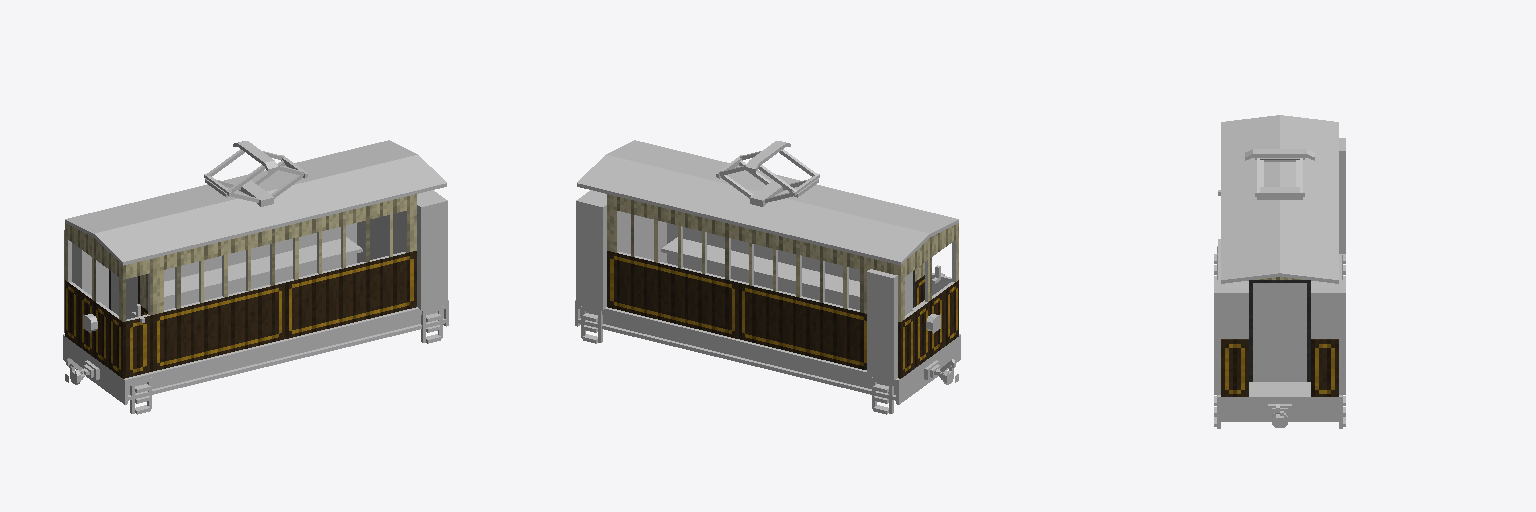
3 views of the same model, side by side, from view 1: azimuth 30°, elevation 25°; view 2: azimuth 150°, elevation 25°; view 3: azimuth 270°, elevation 25° (orthographic).
Visible parts, largest first — view 1: SHELL_WOOD_roof, SHELL_WOOD.002, SHELL_WOOD.001, SHELL_WOOD_cab, SHELL_WOOD_INTERIOR.001, DOOR_8, FRAME, FRAME.001, FRAME_cab, SHELL_WOOD_INTERIOR, SHELL_WOOD_cab_roof, SHELL_WOOD_cab_roof.001 (+3 smaller); view 2: SHELL_WOOD_roof, SHELL_WOOD.002, SHELL_WOOD.001, SHELL_WOOD_cab, SHELL_WOOD_INTERIOR.001, DOOR_6, DOOR_7, FRAME, FRAME.001, FRAME_cab, SHELL_WOOD_cab_roof, SHELL_WOOD_cab_roof.001 (+4 smaller); view 3: SHELL_WOOD_roof, SHELL_WOOD, FRAME_cab.001, DOOR_8, DOOR_7, DOOR_4, DOOR_3, SHELL_WOOD_cab_roof.001, SHELL_WOOD_cab_roof, DOOR_6, pantohead.
Boxes of the visible parts, x1=… form: SHELL_WOOD_roof: x1=97, y1=148, x2=414, y2=257; SHELL_WOOD.002: x1=284, y1=195, x2=414, y2=338; SHELL_WOOD.001: x1=155, y1=226, x2=284, y2=370; SHELL_WOOD_cab: x1=65, y1=220, x2=154, y2=378; SHELL_WOOD_INTERIOR.001: x1=229, y1=211, x2=404, y2=293; DOOR_8: x1=417, y1=190, x2=447, y2=309; FRAME: x1=155, y1=339, x2=286, y2=393; FRAME.001: x1=285, y1=308, x2=416, y2=361; FRAME_cab: x1=63, y1=334, x2=156, y2=414; SHELL_WOOD_INTERIOR: x1=164, y1=254, x2=243, y2=309; SHELL_WOOD_cab_roof: x1=65, y1=212, x2=154, y2=265; SHELL_WOOD_cab_roof.001: x1=358, y1=140, x2=446, y2=193; SHELL_WOOD_roof: x1=609, y1=148, x2=926, y2=257; SHELL_WOOD.002: x1=609, y1=195, x2=739, y2=338; SHELL_WOOD.001: x1=739, y1=226, x2=868, y2=369; SHELL_WOOD_cab: x1=869, y1=220, x2=958, y2=378; SHELL_WOOD_INTERIOR.001: x1=619, y1=211, x2=794, y2=293; DOOR_6: x1=867, y1=269, x2=910, y2=380; DOOR_7: x1=576, y1=190, x2=606, y2=309; FRAME: x1=737, y1=339, x2=868, y2=393; FRAME.001: x1=607, y1=308, x2=738, y2=361; FRAME_cab: x1=867, y1=334, x2=960, y2=414; SHELL_WOOD_cab_roof: x1=869, y1=212, x2=958, y2=265; SHELL_WOOD_cab_roof.001: x1=577, y1=140, x2=665, y2=193; SHELL_WOOD_roof: x1=1221, y1=131, x2=1338, y2=264; SHELL_WOOD: x1=1221, y1=277, x2=1338, y2=396; FRAME_cab.001: x1=1214, y1=382, x2=1345, y2=428; DOOR_8: x1=1214, y1=280, x2=1248, y2=394; DOOR_7: x1=1311, y1=280, x2=1345, y2=394; DOOR_4: x1=1253, y1=283, x2=1279, y2=381; DOOR_3: x1=1280, y1=283, x2=1306, y2=381; SHELL_WOOD_cab_roof.001: x1=1221, y1=258, x2=1338, y2=283; SHELL_WOOD_cab_roof: x1=1221, y1=115, x2=1338, y2=137; DOOR_6: x1=1339, y1=138, x2=1345, y2=253; pantohead: x1=1245, y1=149, x2=1314, y2=160.
Bounding box in the file's own units: 7 × 3.69 × 2.12.
Materials: 5 (1 with a texture image).